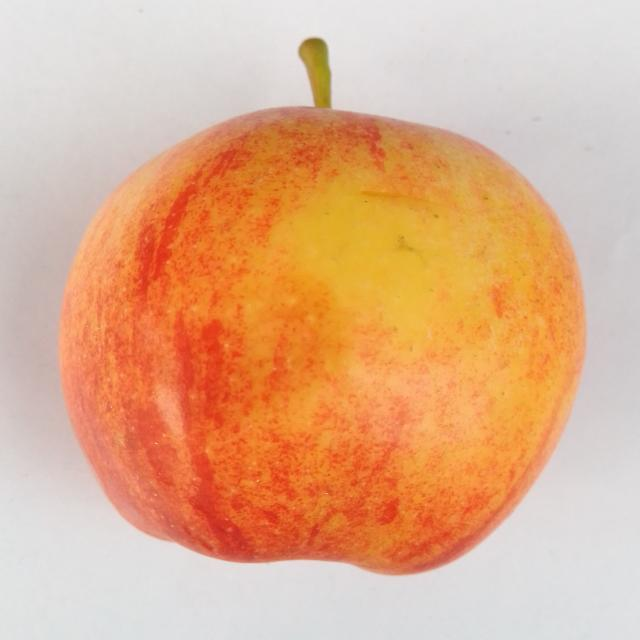Fresh Apple: (61, 107, 572, 588)
